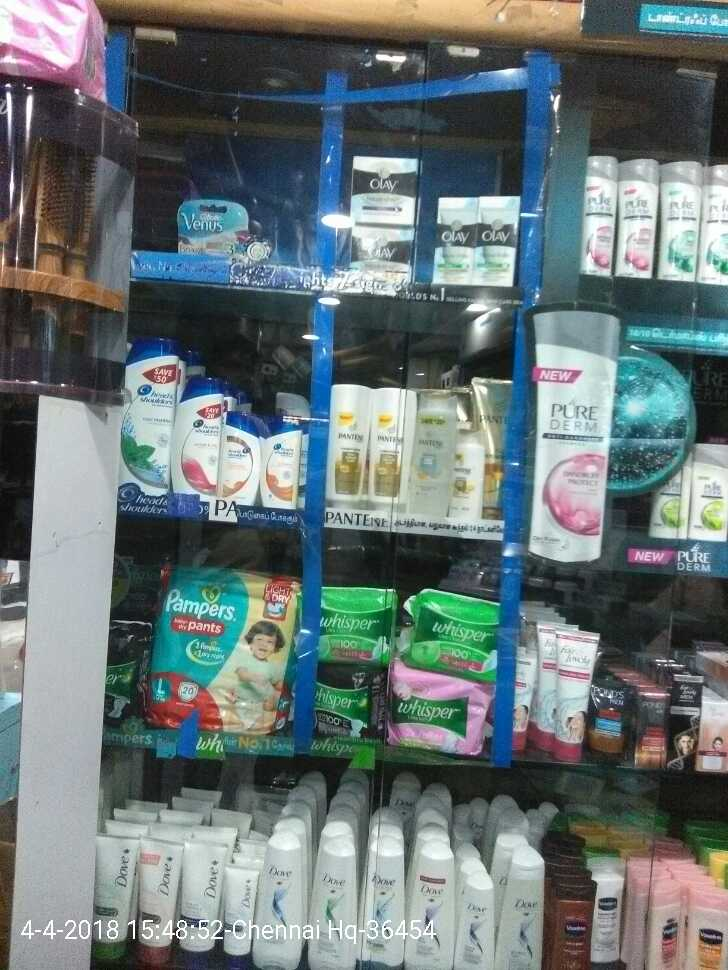venus: (179, 202, 248, 258)
